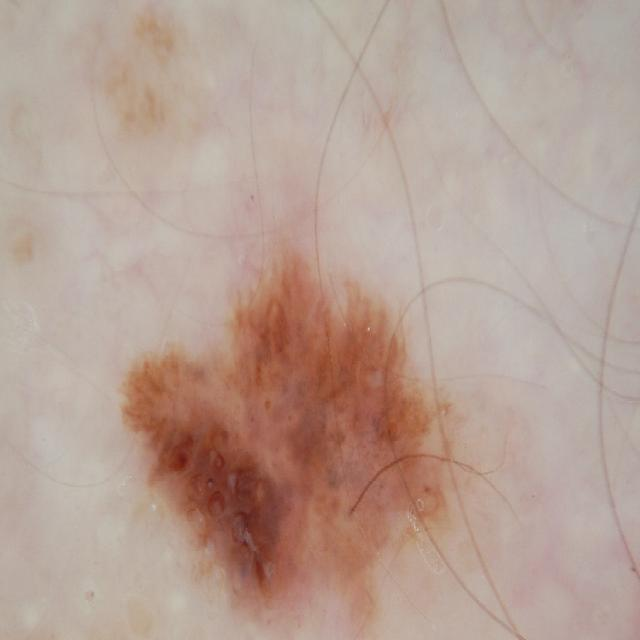Melanoma: (112, 220, 478, 640)
